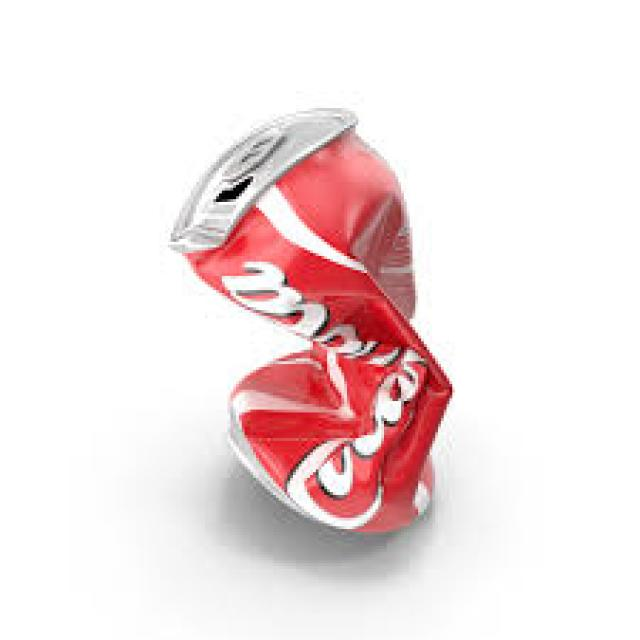aluminum_can: (171, 108, 455, 533)
